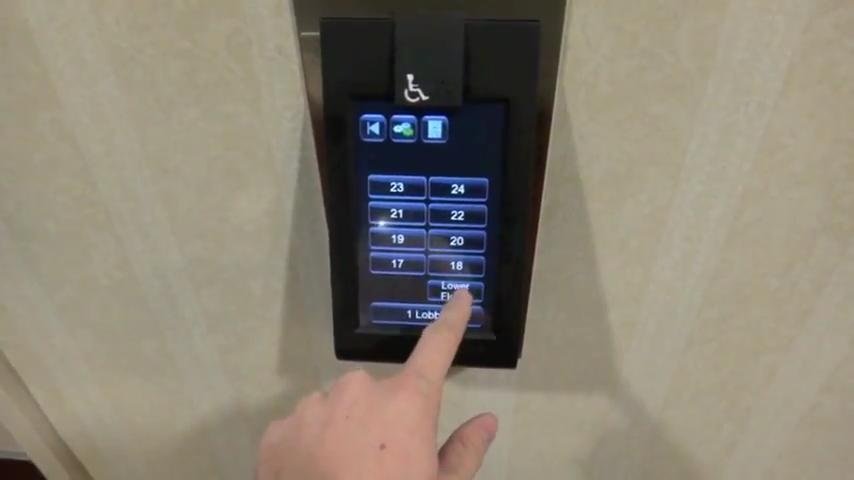17: (367, 252, 435, 274)
18: (430, 255, 492, 278)
19: (366, 224, 428, 252)
20: (428, 227, 487, 250)
21: (365, 201, 427, 226)
22: (429, 201, 489, 227)
23: (367, 173, 428, 201)
24: (430, 171, 491, 202)
CH: (396, 67, 440, 107)
unknown: (419, 110, 453, 148), (390, 111, 418, 145), (360, 112, 385, 148)
